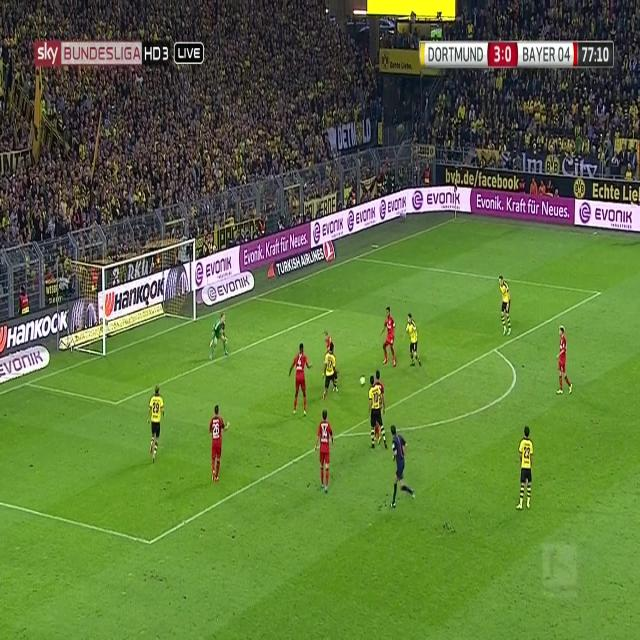Ball: (358, 374, 368, 389)
Goalkeeper: (208, 310, 230, 364)
Player: (288, 341, 314, 418), (144, 382, 167, 466), (208, 404, 231, 485), (314, 408, 335, 496), (516, 425, 534, 515), (367, 375, 387, 449), (556, 322, 573, 399), (320, 341, 339, 404), (379, 306, 397, 370), (497, 273, 514, 337), (404, 313, 422, 370)
Referee: (388, 422, 416, 513)
